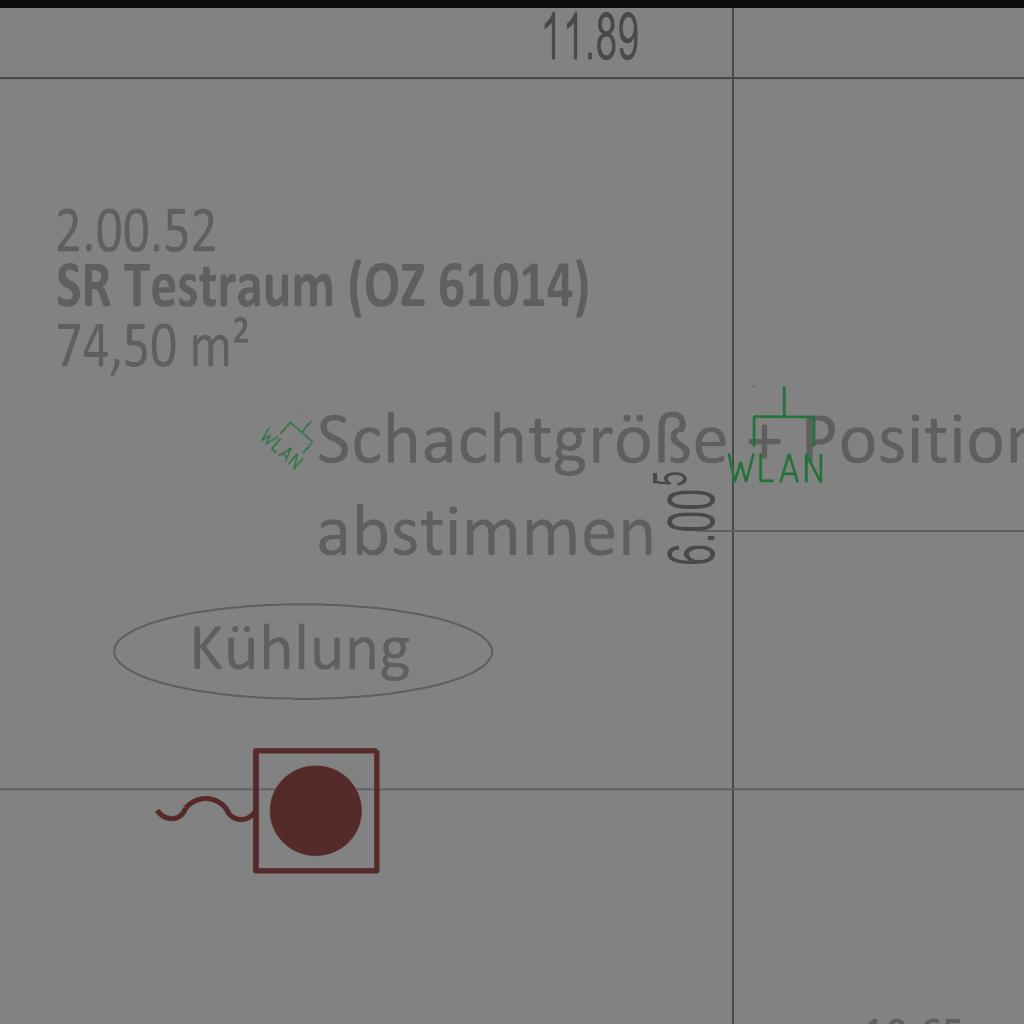WLAN: (722, 383, 827, 487), (255, 399, 329, 473)
Zugtaster: (144, 737, 388, 881)
